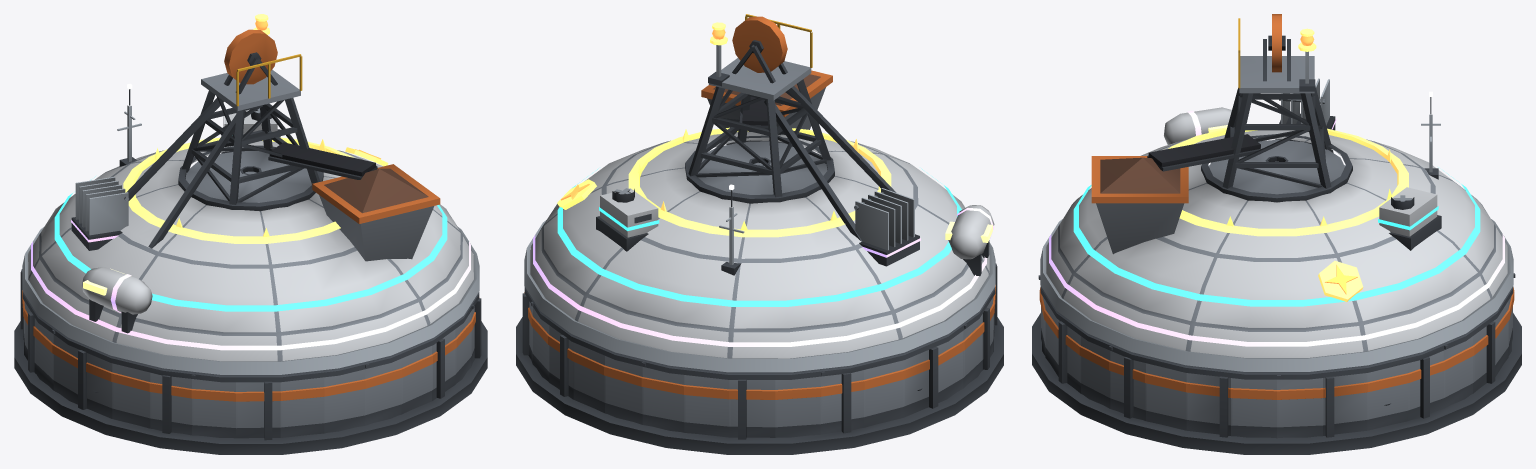
File: mine.glb
3 views of the same model, side by side, from view 1: azimuth 30°, elevation 25°; view 2: azimuth 150°, elevation 25°; view 3: azimuth 270°, elevation 25° (orthographic). The views are drawn at different scales.
Parts seen in each view (by area): view 1: Roof, Base, L4, L2, L3, L5, Wall_21, Wall_22, Wall_20, Wall_19, Wall_23, Wall_18 (+9 smaller); view 2: Roof, Base, L4, L2, L3, L5, Wall_10, Wall_11, Wall_09, Wall_12, Wall_08, Wall_13 (+9 smaller); view 3: Roof, Base, L2, L3, L4, L5, Wall_00, Wall_31, Wall_01, Wall_30, Wall_29, Wall_02 (+8 smaller).
Part boxes in pixels (x1,y1,x2,y2): Roof: (22, 29, 479, 382); Base: (14, 321, 487, 454); L4: (31, 177, 470, 350); L2: (22, 83, 479, 374); L3: (54, 108, 447, 311); L5: (123, 14, 388, 243); Wall_21: (236, 381, 280, 440); Wall_22: (280, 377, 324, 437); Wall_20: (191, 374, 235, 438); Wall_19: (149, 372, 191, 435); Wall_23: (324, 369, 365, 433); Wall_18: (111, 363, 150, 428); Roof: (524, 14, 995, 379); Base: (516, 317, 1003, 454); L4: (533, 188, 994, 346); L2: (524, 184, 995, 372); L3: (557, 157, 961, 306); L5: (557, 22, 891, 237); Wall_10: (729, 379, 775, 439); Wall_11: (775, 376, 821, 437); Wall_09: (684, 375, 729, 437); Wall_12: (820, 370, 864, 434); Wall_08: (641, 362, 684, 432); Wall_13: (864, 360, 903, 427); Roof: (1040, 14, 1513, 379); Base: (1032, 313, 1521, 454); L2: (1040, 91, 1513, 371); L3: (1073, 156, 1480, 306); L4: (1049, 78, 1504, 346); L5: (1164, 28, 1408, 301); Wall_00: (1277, 375, 1323, 438); Wall_31: (1230, 378, 1276, 438); Wall_01: (1323, 373, 1367, 437); Wall_30: (1186, 373, 1230, 437); Wall_29: (1145, 363, 1186, 430); Wall_02: (1367, 363, 1408, 430).
Size of the model in its own units: 9.72 by 7.33 by 9.72.
